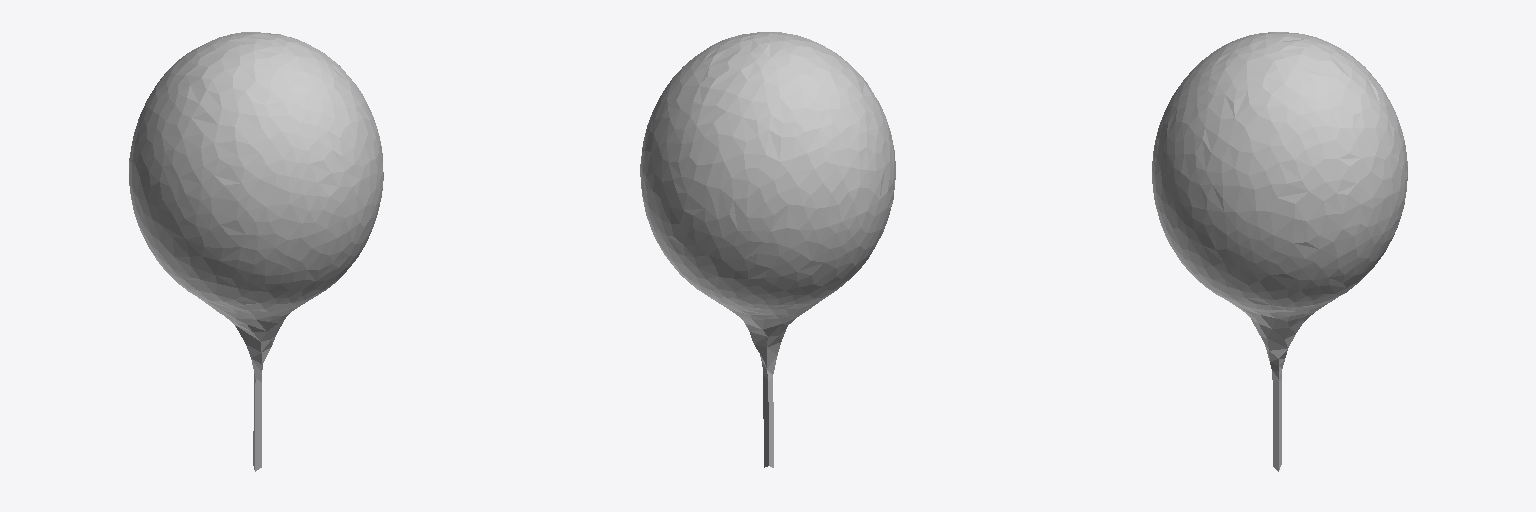
The model's file is baloon.obj.
3 views of the same model, side by side, from view 1: azimuth 30°, elevation 25°; view 2: azimuth 150°, elevation 25°; view 3: azimuth 270°, elevation 25° (orthographic).
Visible parts, largest first — view 1: revopoint-miraco-Boy_Baloon; view 2: revopoint-miraco-Boy_Baloon; view 3: revopoint-miraco-Boy_Baloon.
Boxes of the visible parts, <box> form: revopoint-miraco-Boy_Baloon: <box>129,32,383,471</box>; revopoint-miraco-Boy_Baloon: <box>640,32,895,467</box>; revopoint-miraco-Boy_Baloon: <box>1152,32,1407,471</box>.
Bounding box in the file's own units: 5.05 × 9.32 × 5.07.